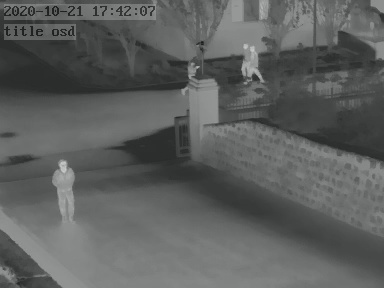person: (53, 153, 77, 222), (244, 40, 262, 81)
